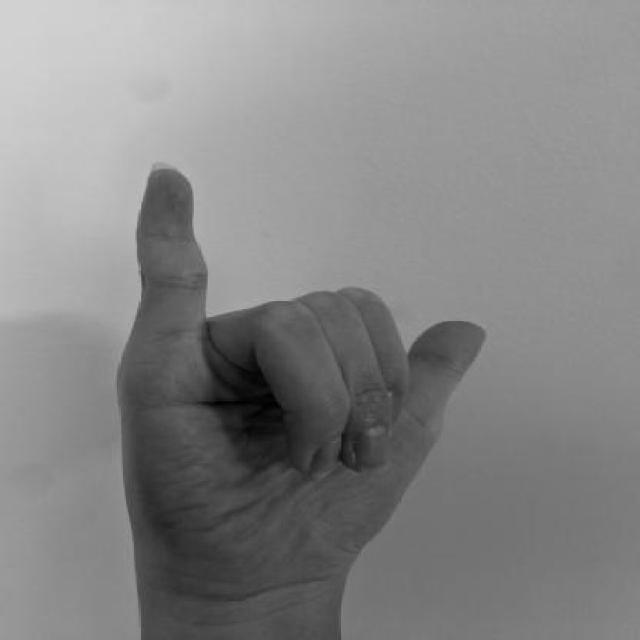Y: (105, 157, 494, 603)
